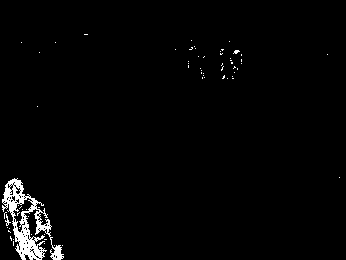person: (1, 176, 62, 260)
